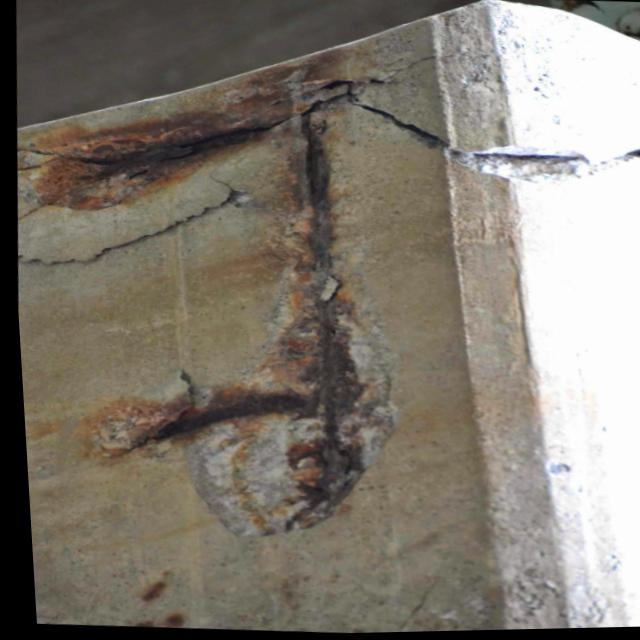Crack: (212, 402, 294, 559), (148, 48, 210, 213), (117, 216, 158, 293)
